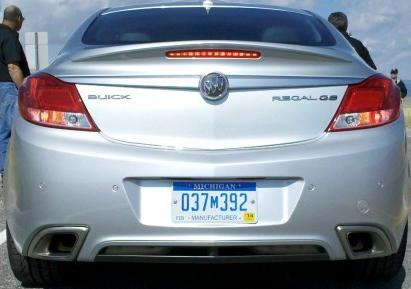back_view: (15, 61, 411, 266)
backlight: (326, 65, 407, 137)
